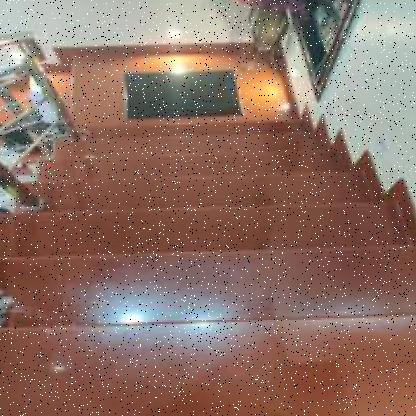stair_down: (67, 198, 358, 360)
